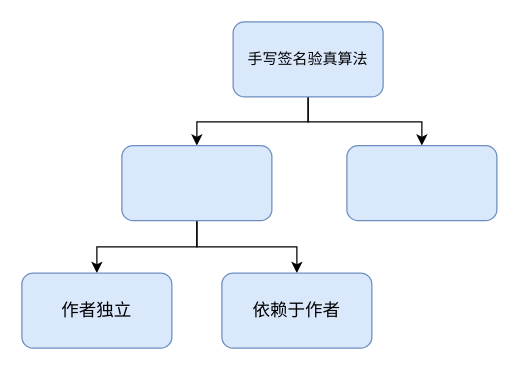
This 519x370 diagram has some shape labels left out. The centre of each missing label's shape, as x and y in pixels:
"在线验真" goes at (x=421, y=182).
"离线验真" goes at (x=196, y=182).
